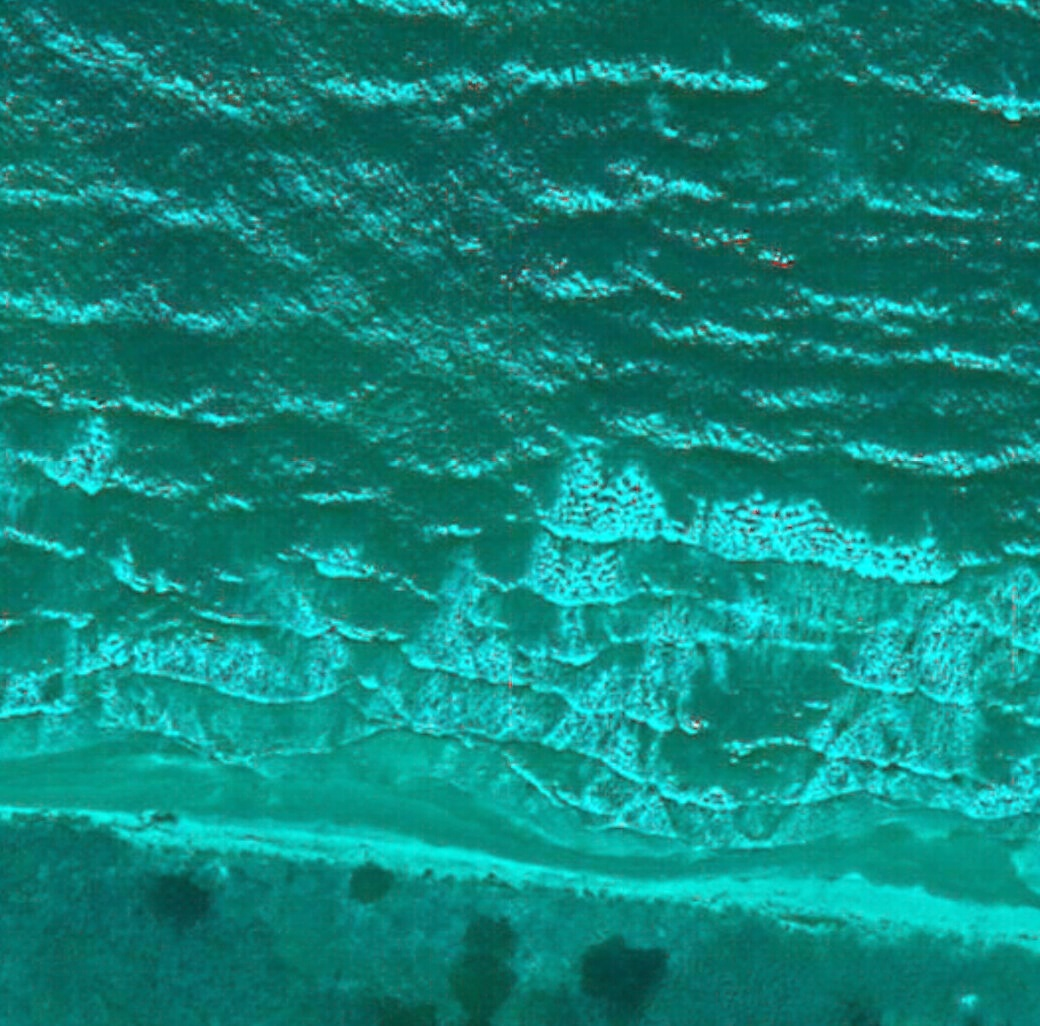rip_current: (663, 394, 889, 863)
